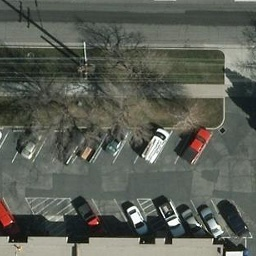car: (142, 125, 168, 163), (184, 126, 210, 164), (77, 200, 103, 238), (124, 203, 150, 241), (157, 199, 183, 237), (179, 205, 205, 243), (197, 203, 223, 241), (222, 202, 248, 240), (1, 201, 25, 239), (19, 126, 41, 159), (62, 129, 84, 162), (104, 123, 126, 156)
